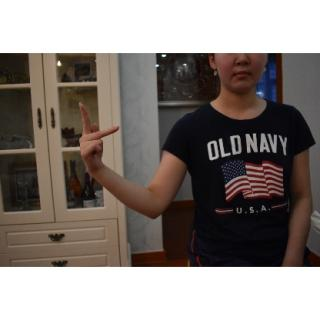DHAA: (73, 98, 119, 178)
